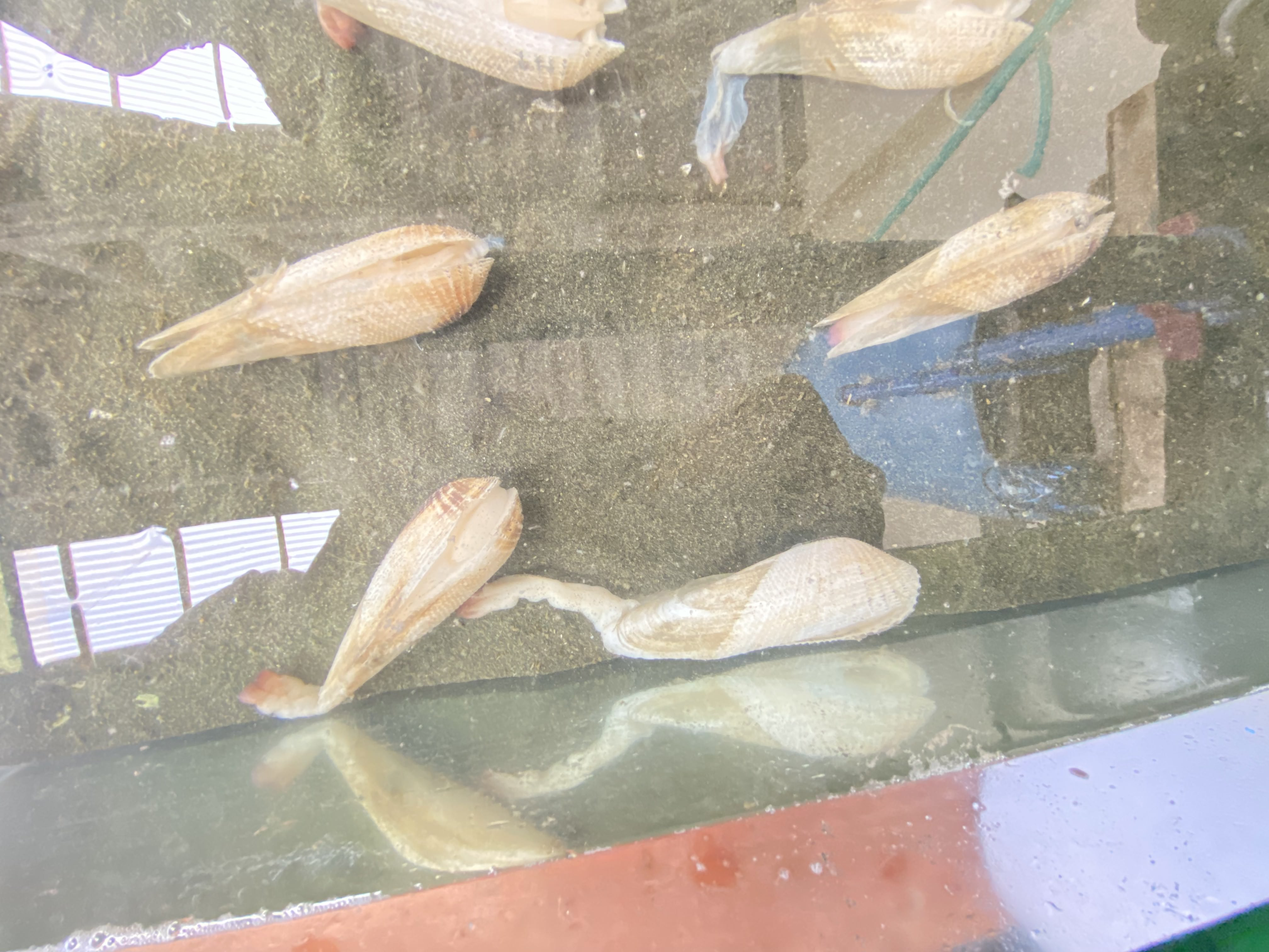At risk: (240, 478, 522, 717), (459, 537, 920, 660), (138, 225, 493, 377), (816, 192, 1114, 358), (458, 568, 883, 660)
